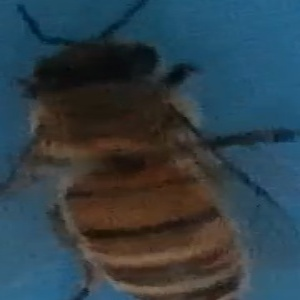bee: (7, 7, 288, 300)
